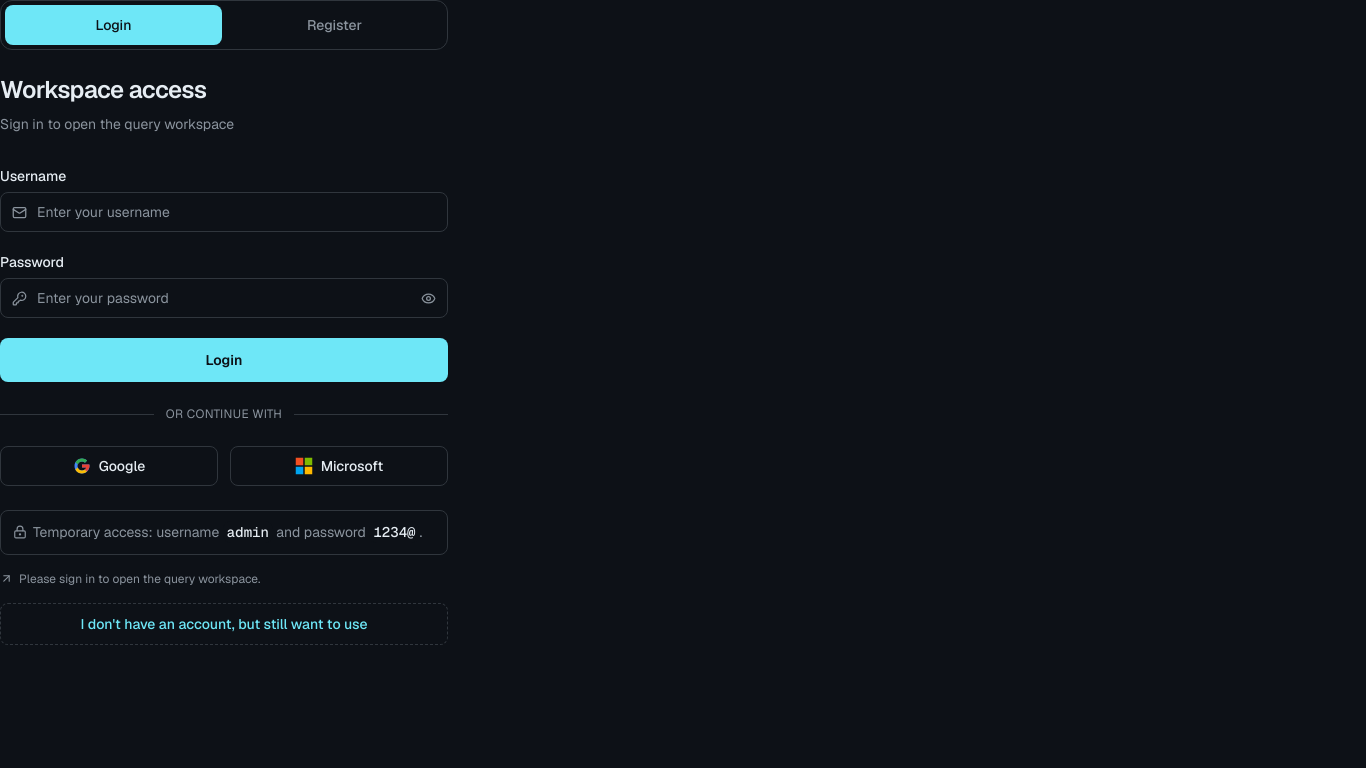
Test: U46/U47 — the guest link on the sign-in form › U47 opens the disclosure from the guest link
Click the button "I don't have an account, but still want to use": (224, 624) [0,603,448,645]
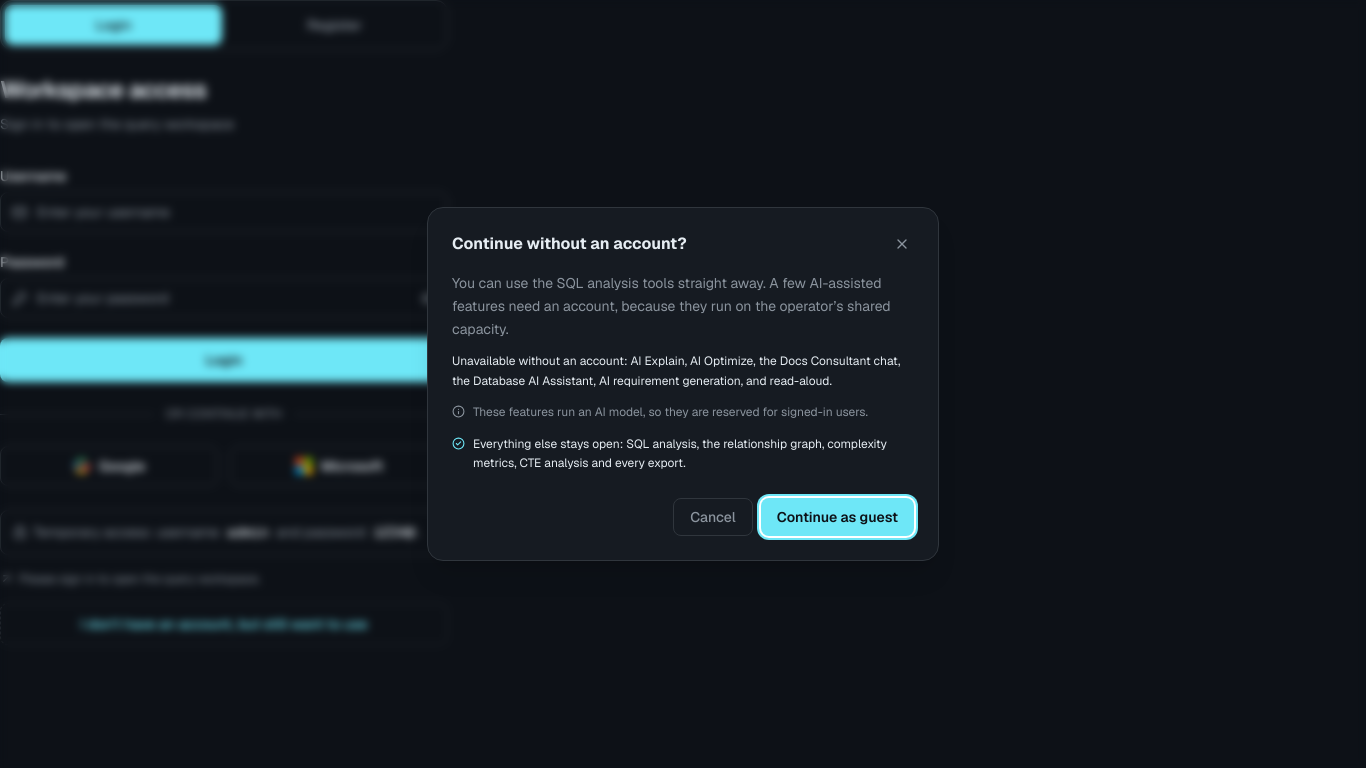
Check: the dialog is shown, box [427,207,939,561]
